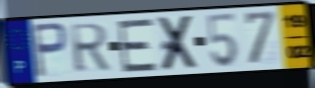5: (205, 11, 240, 70)
7: (244, 9, 278, 67)
E: (115, 16, 159, 74)
P: (30, 21, 69, 79)
R: (68, 21, 112, 75)
X: (157, 13, 200, 73)
